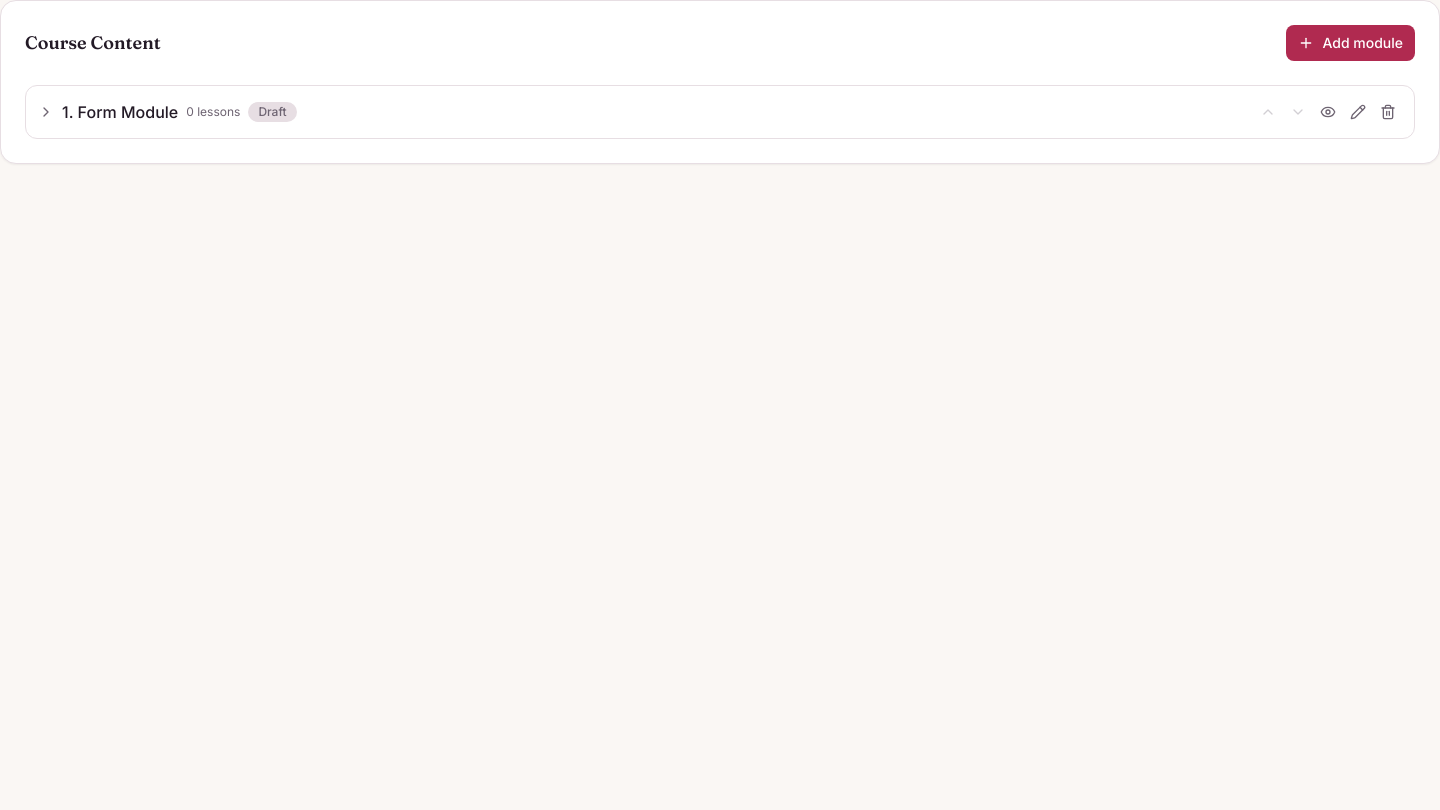
it: CourseContentManager › switches the lesson form fields when the type changes and validates them
Click the button with aria-label "Expand module Form Module" at (128, 112), box [38,100,1246,124]
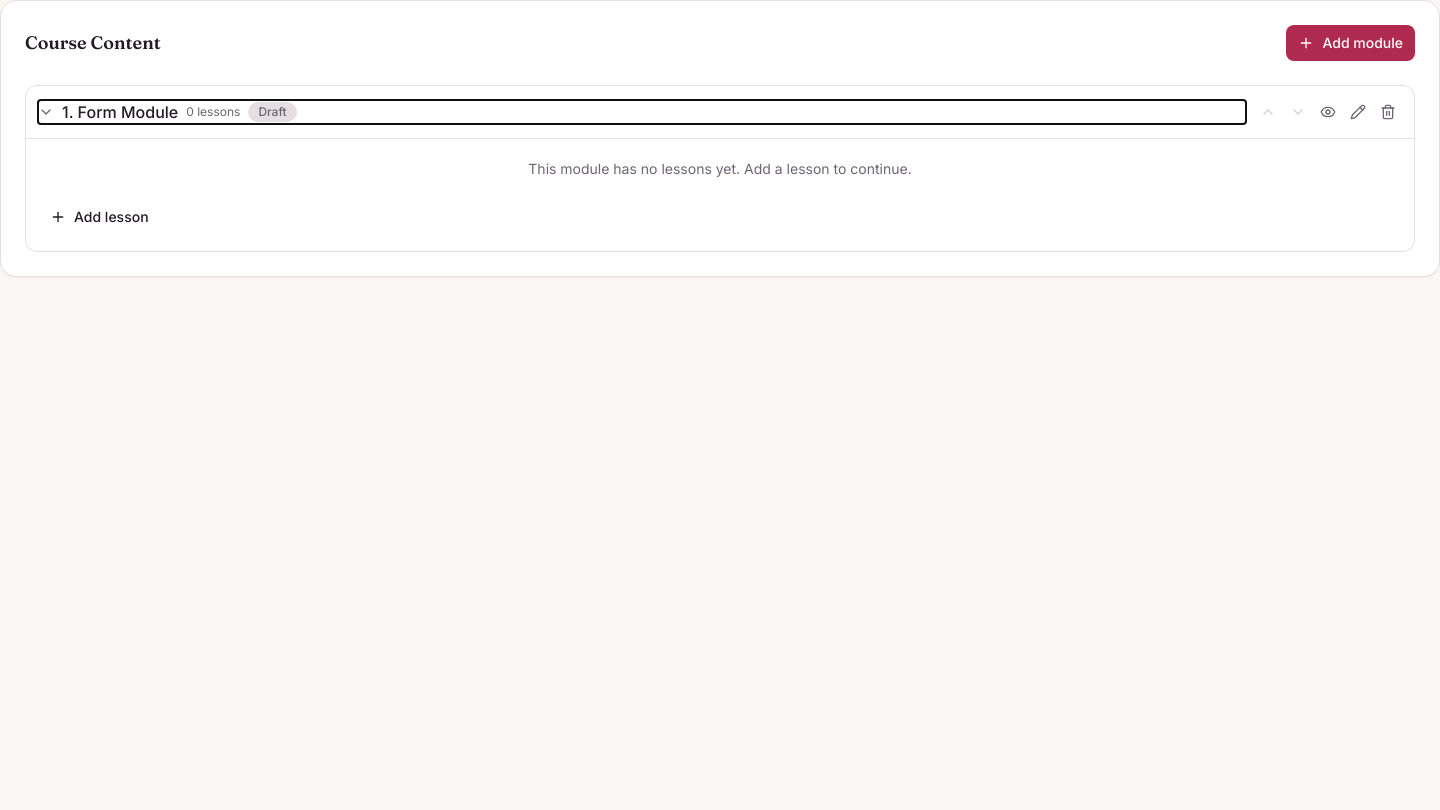
Click the button "Add lesson" at (99, 217), box [38,199,161,235]
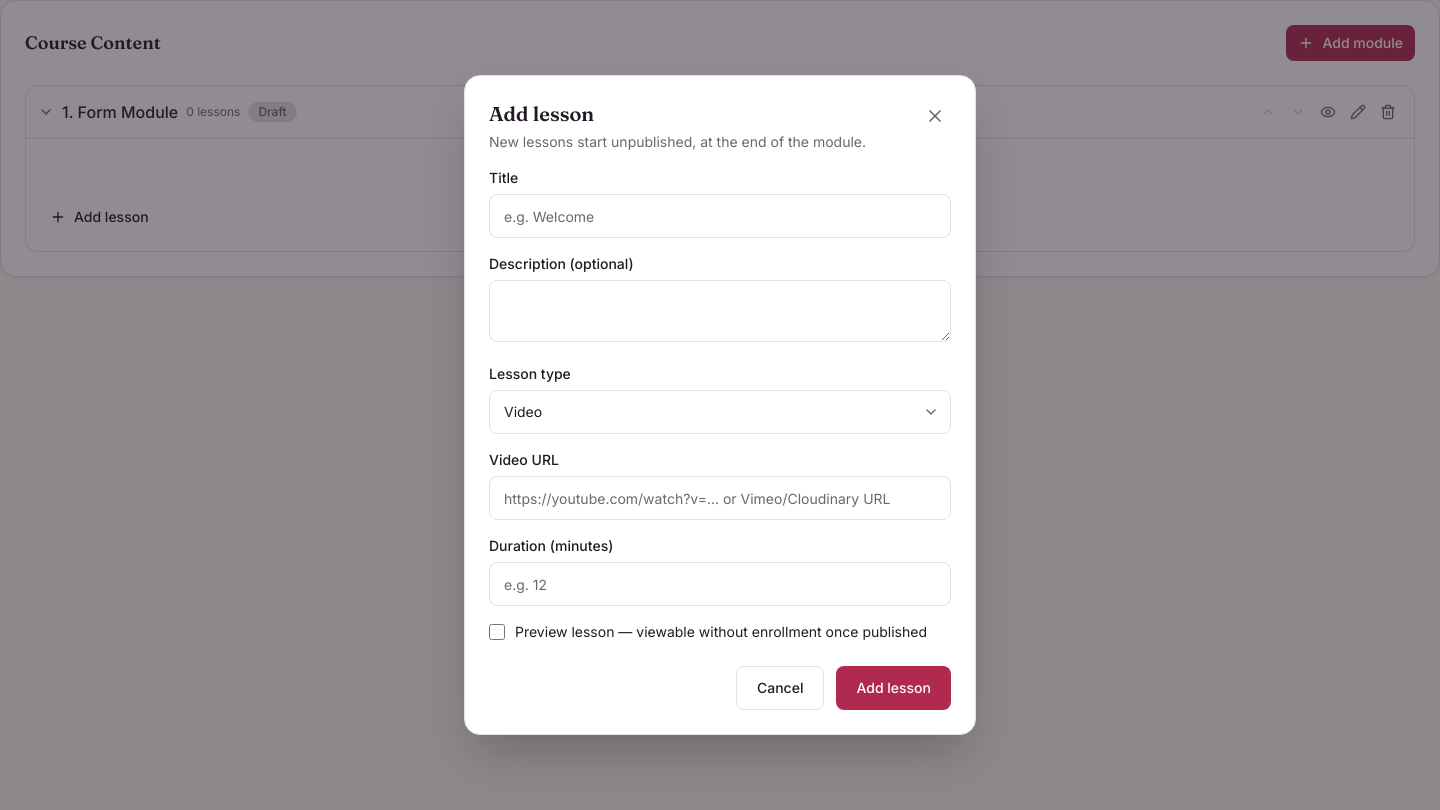
Select "Text" in the dropdown labelled "Lesson type" at (720, 412), box [489,390,951,434]
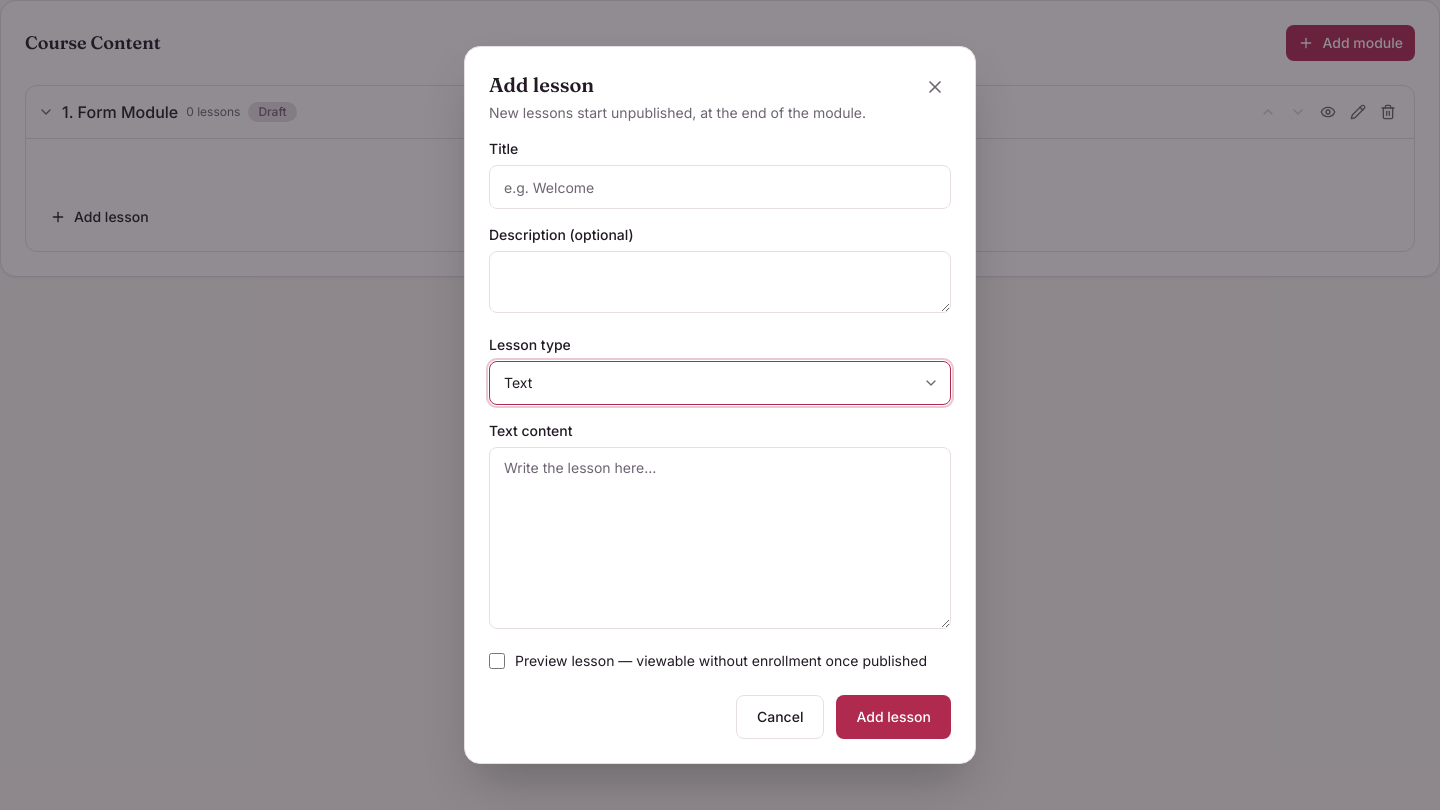
expect the text box labelled "Text content" is shown: met, box [489,447,951,629]
expect the label labelled "Video URL" is gone: met
Type "Text Lesson" into the field labelled "Title" at (720, 187), box [489,165,951,209]
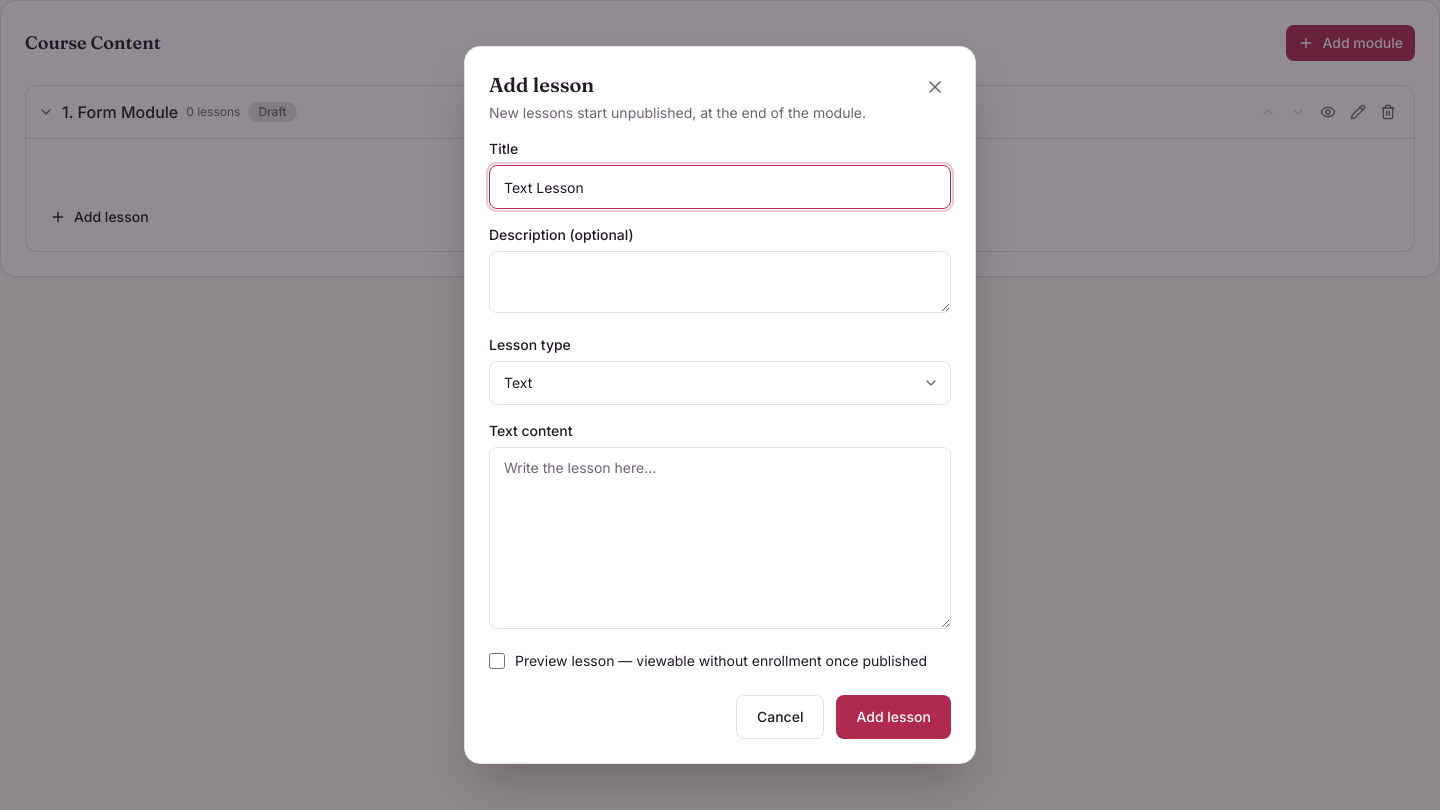
Click the button "Add lesson" at (894, 717), box [836,695,951,739]
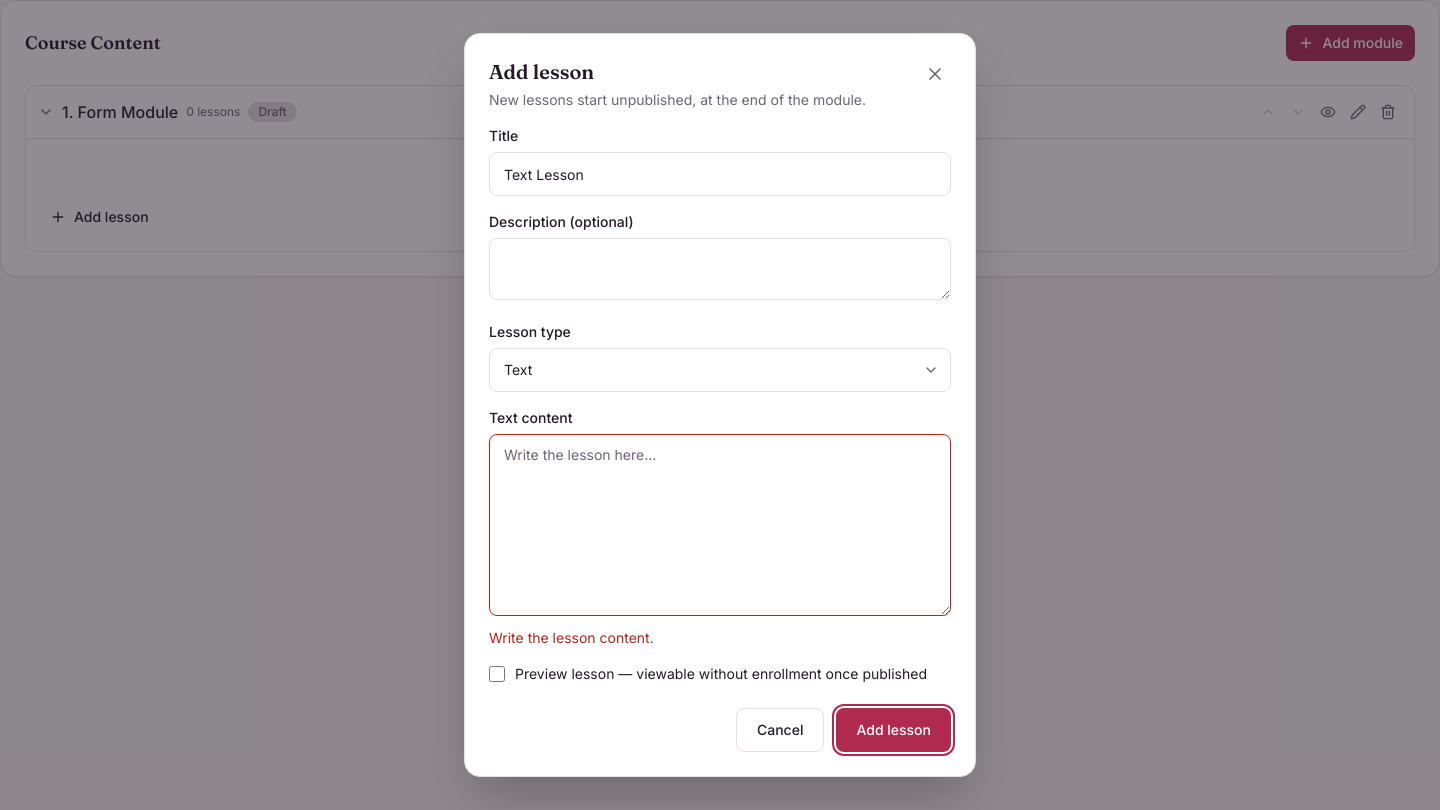
expect the text "Write the lesson content." is shown: met, box [489,629,654,646]
Select "PDF" in the dropdown labelled "Lesson type" at (720, 370), box [489,348,951,392]
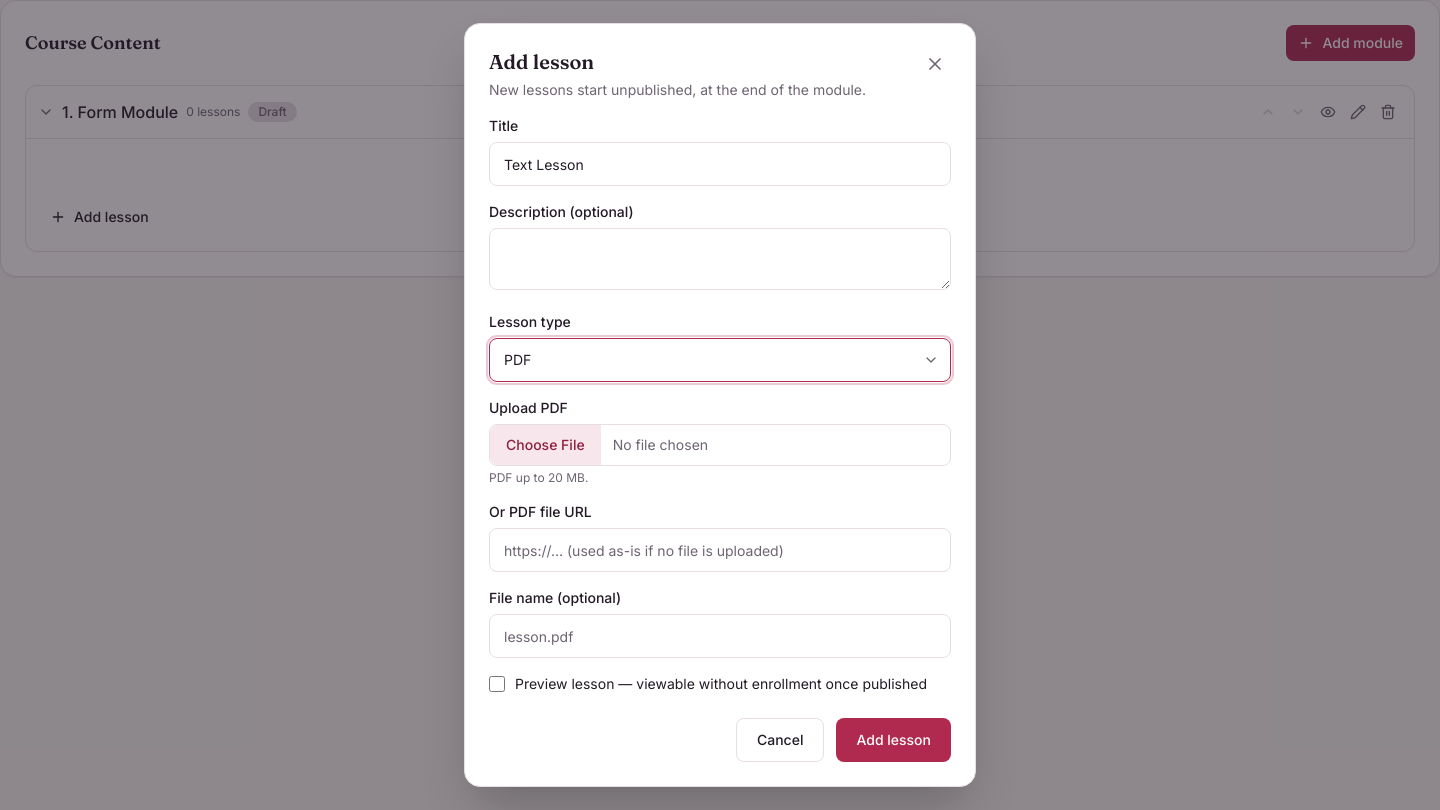
expect the file field labelled "Upload PDF" is shown: met, box [489,424,951,466]
expect the field labelled "Or PDF file URL" is shown: met, box [489,528,951,572]
expect the label labelled "Text content" is gone: met
